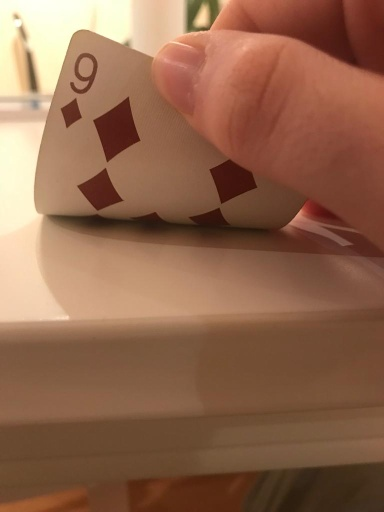D9: (60, 52, 98, 132)
